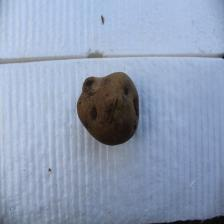Diseased-fungal potato: (76, 71, 140, 146)
